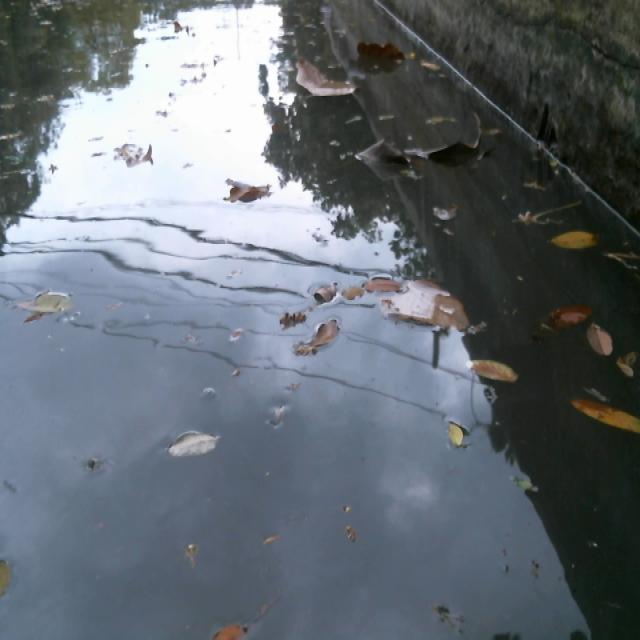Big-leaf: (378, 274, 479, 343), (405, 114, 496, 175), (283, 53, 378, 96), (345, 137, 425, 188), (350, 35, 408, 66)
Small-leaf: (568, 392, 640, 442), (210, 172, 288, 216), (161, 429, 225, 468), (11, 285, 76, 320), (463, 354, 524, 389), (539, 296, 593, 329), (110, 142, 161, 173), (546, 228, 604, 254), (201, 614, 258, 640), (435, 410, 472, 450), (583, 319, 617, 360), (505, 455, 536, 499), (331, 514, 365, 551), (309, 318, 345, 349), (0, 546, 15, 609), (428, 200, 463, 225), (275, 305, 306, 333), (614, 350, 640, 383), (178, 537, 204, 570), (309, 280, 340, 305), (417, 54, 445, 75), (255, 529, 283, 548)
